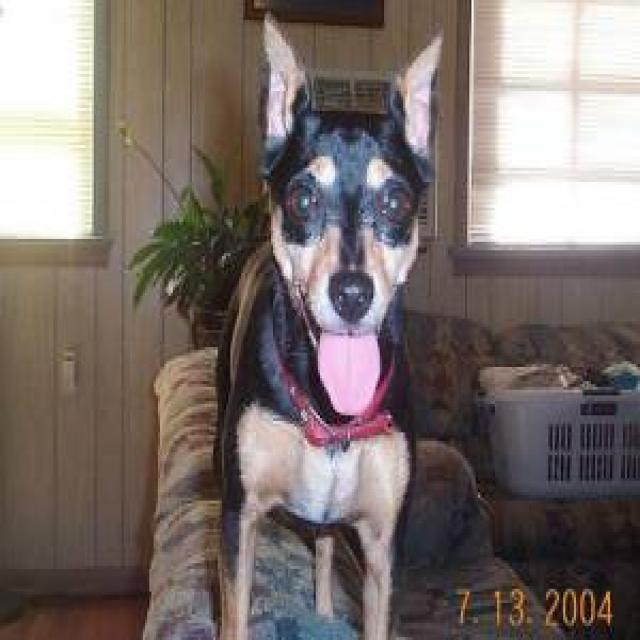dog-miniature_pinscher: (198, 11, 454, 634)
